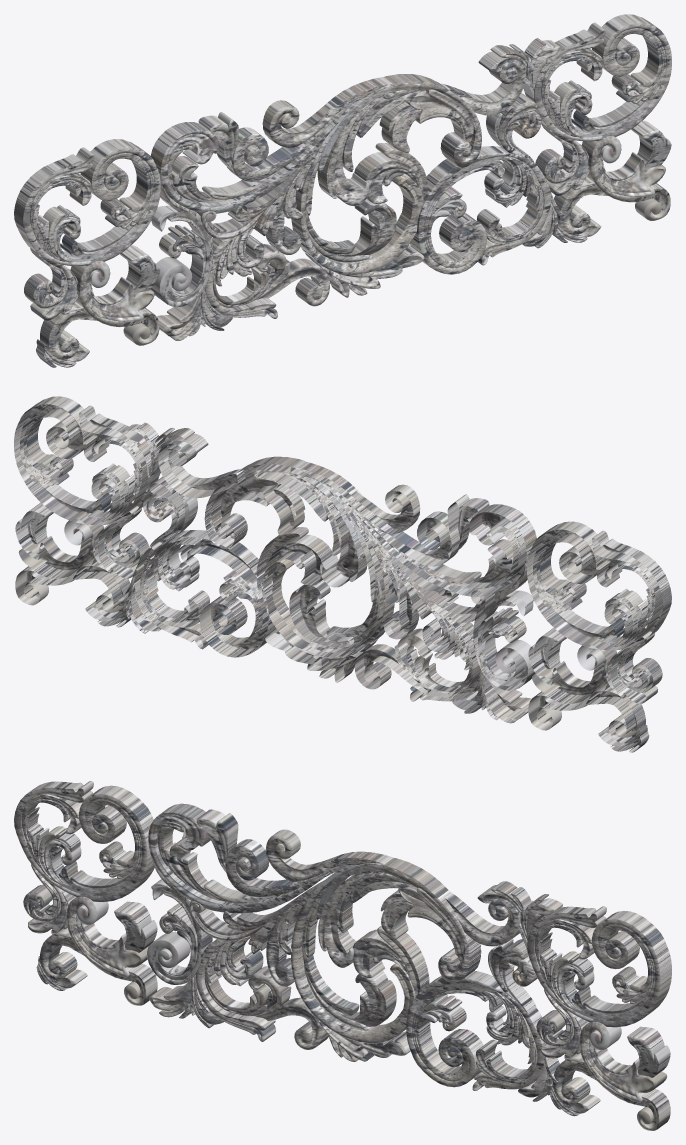
The model's file is SM_Carving_01.fbx.
The picture shows the model from 3 angles, top to bottom: view 1: azimuth 30°, elevation 25°; view 2: azimuth 150°, elevation 25°; view 3: azimuth 330°, elevation 25°; orthographic projection.
Parts seen in each view (by area): view 1: SM_Carving_01_LOD0; view 2: SM_Carving_01_LOD0; view 3: SM_Carving_01_LOD0.
Part boxes in pixels (x1=…): SM_Carving_01_LOD0: x1=14, y1=14, x2=671, y2=367; SM_Carving_01_LOD0: x1=14, y1=396, x2=671, y2=752; SM_Carving_01_LOD0: x1=14, y1=781, x2=671, y2=1130.
Size of the model in its own units: 205 by 8.1 by 63.26.
